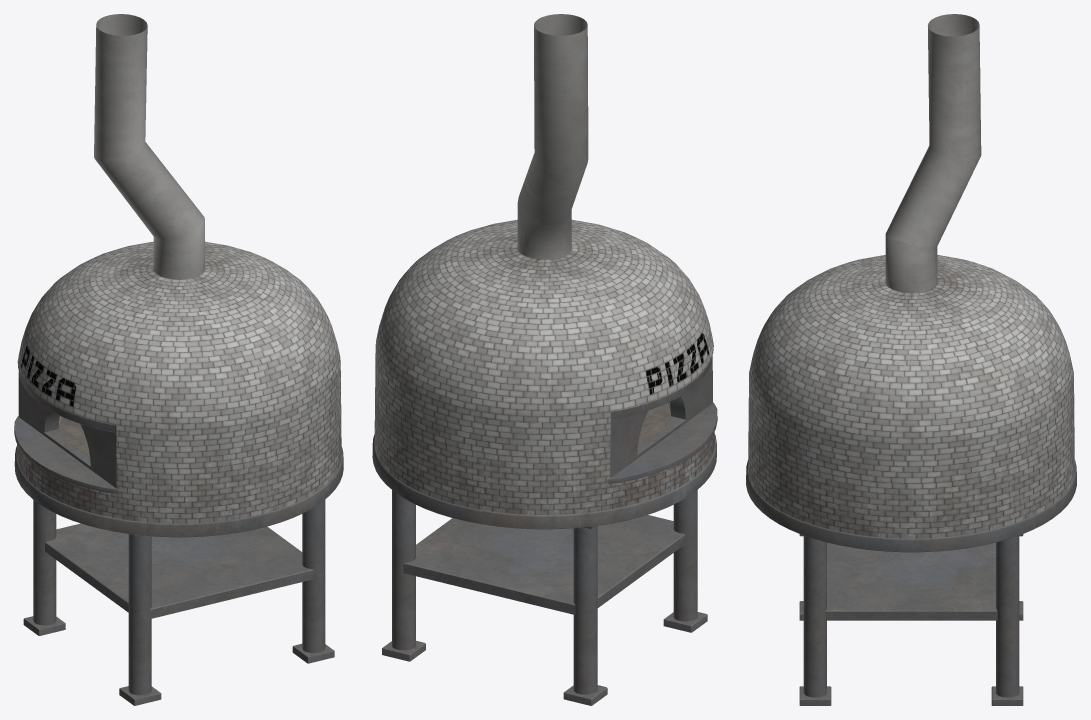
The model's file is SM_PizzaOven_01_A.fbx.
3 renders of one model, left to right at view 1: azimuth 30°, elevation 25°; view 2: azimuth 150°, elevation 25°; view 3: azimuth 270°, elevation 25°, orthographic. The views are drawn at different scales.
Parts seen in each view (by area): view 1: SM_PizzaOven_01_A_LOD0; view 2: SM_PizzaOven_01_A_LOD0; view 3: SM_PizzaOven_01_A_LOD0.
Part boxes in pixels (box(x1,y1,x2,y2)): SM_PizzaOven_01_A_LOD0: box(14, 14, 343, 705); SM_PizzaOven_01_A_LOD0: box(372, 14, 717, 705); SM_PizzaOven_01_A_LOD0: box(746, 14, 1076, 705).
Bounding box in the file's own units: 178 × 177 × 363.
